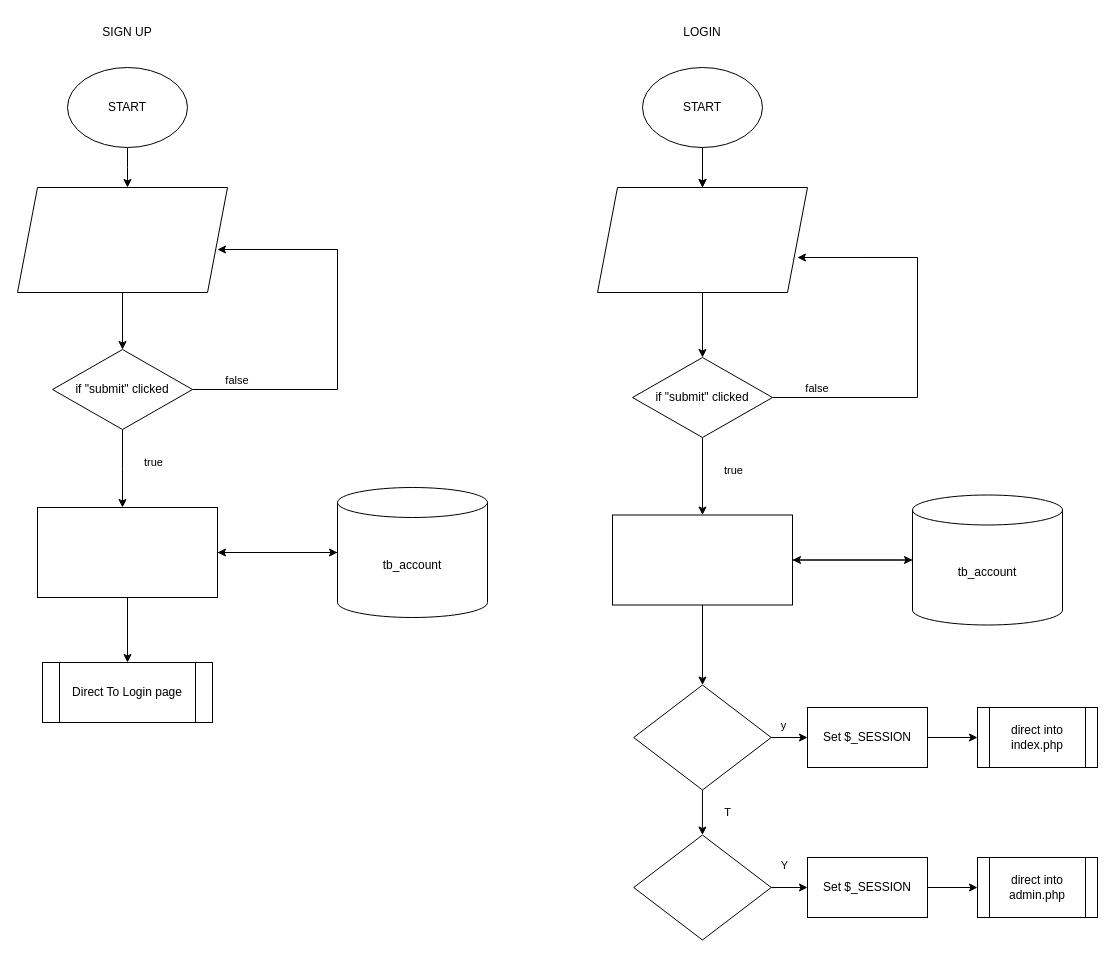
Image size: 1115x957. Some labels were removed from this diagram. The centre of each missing label's shape, as x and y in pixels:
CHECK WITH DATABASE: point (702, 559)
if role == "admin": point (702, 887)
if role == "user": point (702, 737)
input username,email,password, retype password: point (122, 239)
INPUT USERNAME,PASSWORD CHECK COOKIE: point (702, 239)
INSERT INTO DATABASE: point (127, 552)
